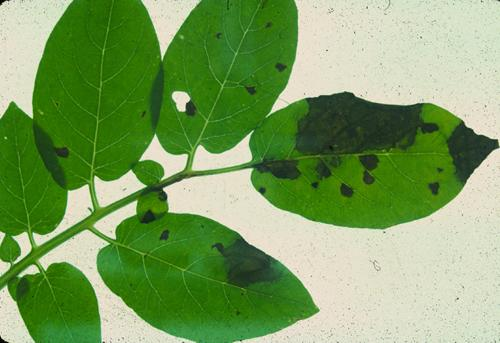Potato leaf late blight: (248, 88, 500, 227), (88, 209, 323, 343), (162, 1, 301, 170)
